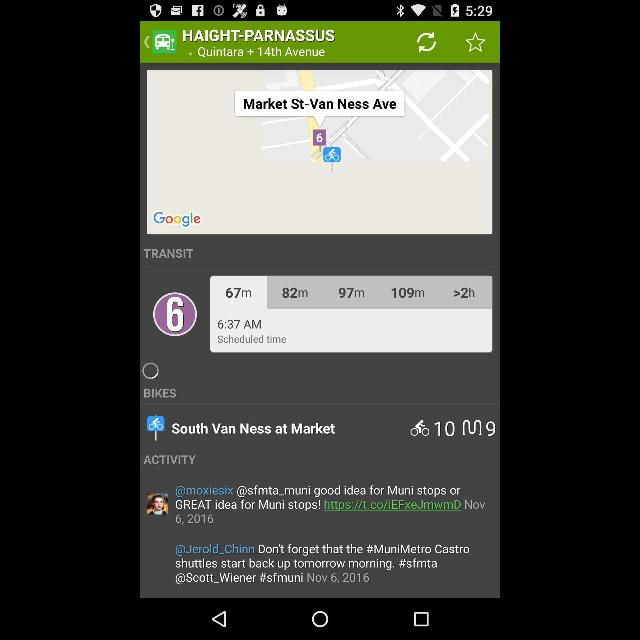icon: (416, 31, 436, 54), (464, 33, 486, 53), (462, 420, 481, 438), (312, 610, 328, 628), (412, 419, 428, 435), (212, 612, 226, 628), (414, 613, 428, 627), (144, 36, 150, 50)
image: (153, 288, 197, 338), (146, 414, 164, 442), (148, 492, 170, 514), (154, 30, 176, 51)
map: (146, 68, 492, 234)
multitab: (210, 276, 492, 308)
panel: (140, 21, 500, 64), (141, 600, 499, 640), (212, 306, 492, 352)
text: (174, 482, 488, 510), (174, 559, 440, 571), (175, 545, 470, 555), (172, 572, 372, 586), (184, 28, 334, 42), (172, 424, 338, 436), (184, 47, 326, 57), (218, 335, 286, 345), (172, 512, 218, 526), (146, 247, 194, 259), (218, 318, 262, 330), (144, 456, 196, 466), (143, 388, 175, 398), (436, 421, 454, 437), (486, 422, 494, 436)
uppertaskbar: (140, 0, 500, 20)
